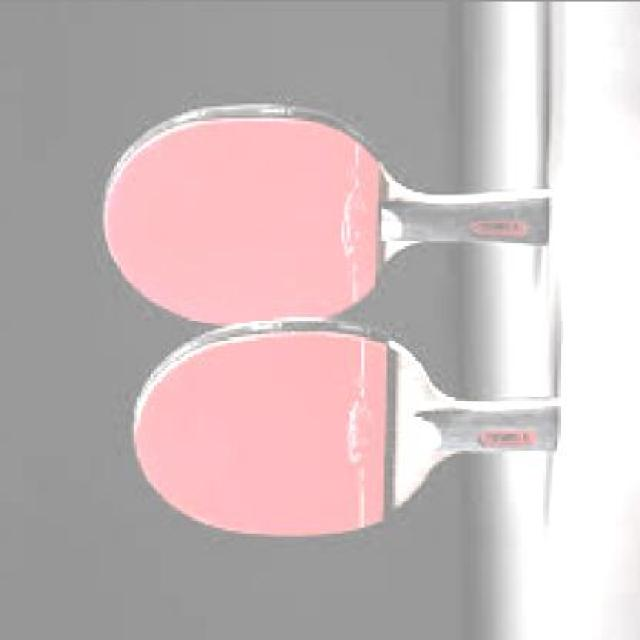table_tennis_racket: (102, 101, 408, 325), (132, 321, 445, 537)
